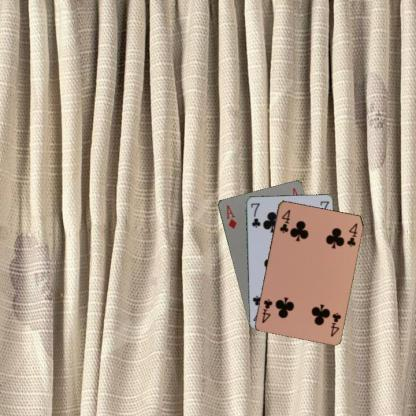4c: (328, 310, 342, 338), (277, 207, 291, 234)
7c: (249, 200, 261, 229)
Ad: (223, 202, 237, 230)
